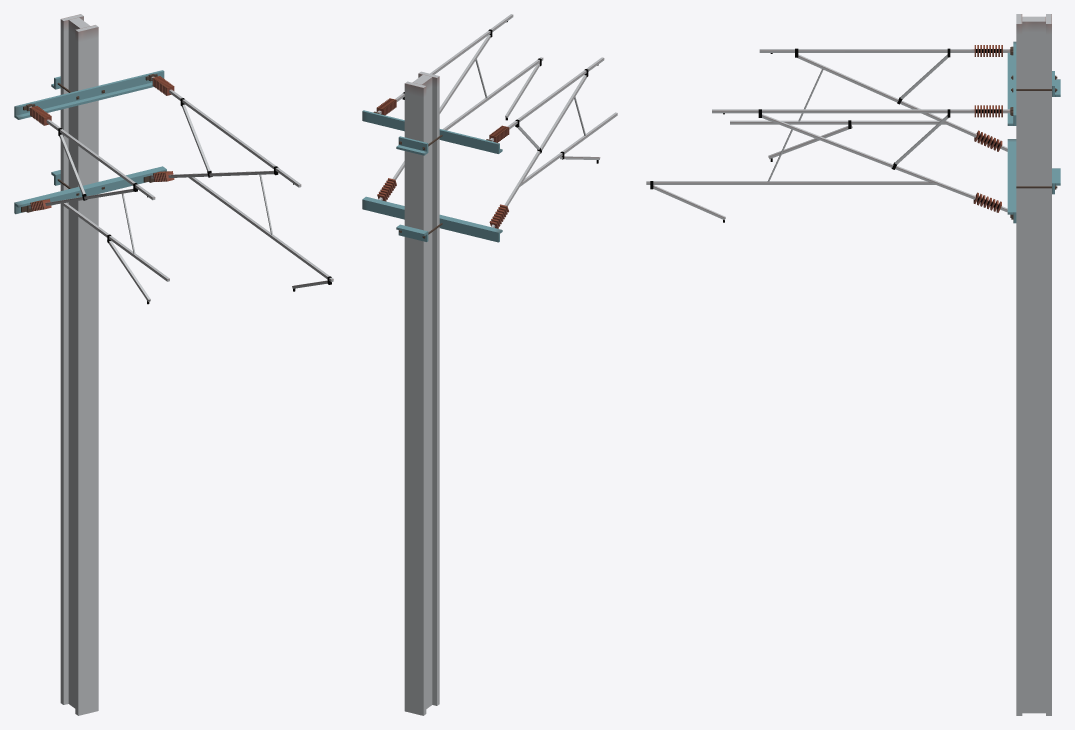
Rendered from catenary_double_l_a.obj.
3 views of the same model, side by side, from view 1: azimuth 30°, elevation 25°; view 2: azimuth 150°, elevation 25°; view 3: azimuth 270°, elevation 25° (orthographic). The views are drawn at different scales.
Visible parts, largest first — view 1: catenary; view 2: catenary; view 3: catenary.
Part boxes in pixels (x1,y1,x2,y2): catenary: [14, 14, 333, 715]; catenary: [362, 14, 617, 715]; catenary: [646, 14, 1060, 715].
Size of the model in its own units: 1.82 by 8 by 4.34.
1 material, 1 textured.
